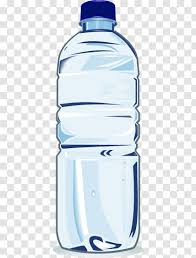available: (39, 2, 159, 257)
